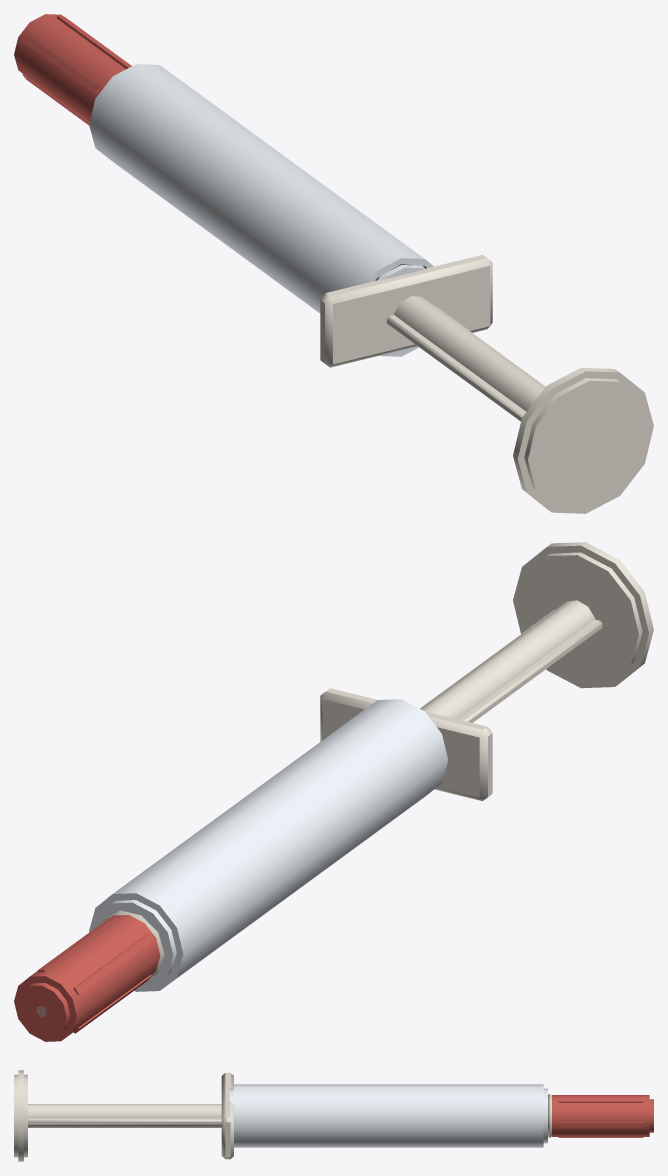
File: PRP-Syringe.fbx
3 views of the same model, one above another, from view 1: azimuth 30°, elevation 25°; view 2: azimuth 150°, elevation 25°; view 3: azimuth 270°, elevation 25° (orthographic). The views are drawn at different scales.
Parts seen in each view (by area): view 1: body, plunger_head, flange, cap, plunger, plunger_rib, cap_ribs; view 2: body, plunger_head, cap, plunger, flange, plunger_rib, cap_ribs; view 3: body, cap, plunger, plunger_rib, plunger_head, flange, cap_ribs, luer_collar.
Part boxes in pixels (left/top/right/bottom): body: left=89, top=64, right=433, bottom=356; plunger_head: left=513, top=367, right=653, bottom=513; flange: left=320, top=254, right=492, bottom=367; cap: left=14, top=14, right=125, bottom=121; plunger: left=394, top=296, right=545, bottom=411; plunger_rib: left=387, top=305, right=545, bottom=421; cap_ribs: left=22, top=16, right=131, bottom=125; body: left=89, top=699, right=448, bottom=991; plunger_head: left=513, top=542, right=653, bottom=688; cap: left=14, top=915, right=160, bottom=1041; plunger: left=420, top=600, right=594, bottom=719; flange: left=320, top=688, right=492, bottom=801; plunger_rib: left=419, top=609, right=602, bottom=722; cap_ribs: left=37, top=916, right=151, bottom=1033; body: left=229, top=1084, right=547, bottom=1147; cap: left=552, top=1095, right=653, bottom=1136; plunger: left=28, top=1104, right=221, bottom=1127; plunger_rib: left=28, top=1118, right=221, bottom=1124; plunger_head: left=14, top=1070, right=27, bottom=1161; flange: left=221, top=1072, right=233, bottom=1159; cap_ribs: left=558, top=1098, right=643, bottom=1137; luer_collar: left=548, top=1093, right=551, bottom=1138.
Size of the model in its own units: 0.032 by 0.026 by 0.181.
